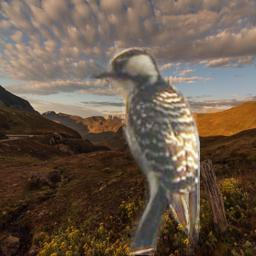Woodpecker: (88, 47, 200, 255)
